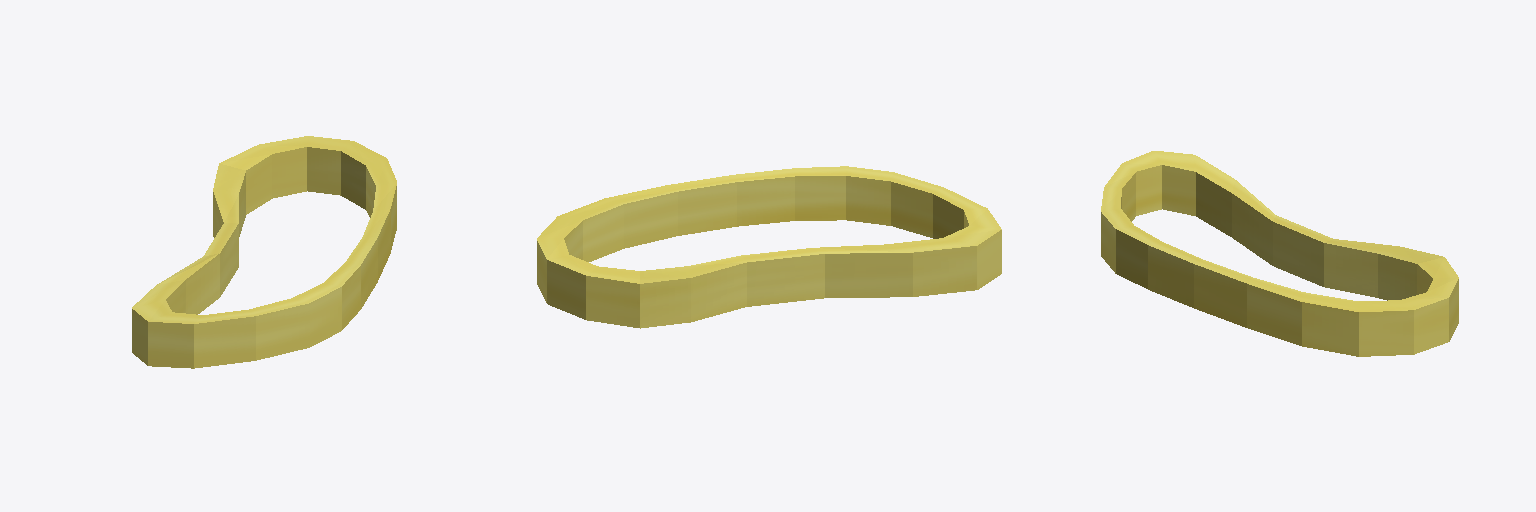
3 views of the same model, side by side, from view 1: azimuth 30°, elevation 25°; view 2: azimuth 150°, elevation 25°; view 3: azimuth 270°, elevation 25° (orthographic).
Parts seen in each view (by area): view 1: elastique; view 2: elastique; view 3: elastique.
Boxes of the visible parts, box(x1,y1,x2,y2) form: elastique: box(132, 136, 396, 368); elastique: box(537, 166, 1001, 328); elastique: box(1101, 151, 1458, 356).
Bounding box in the file's own units: 90.78 × 15.45 × 82.45.
Materials: 1 (1 with a texture image).